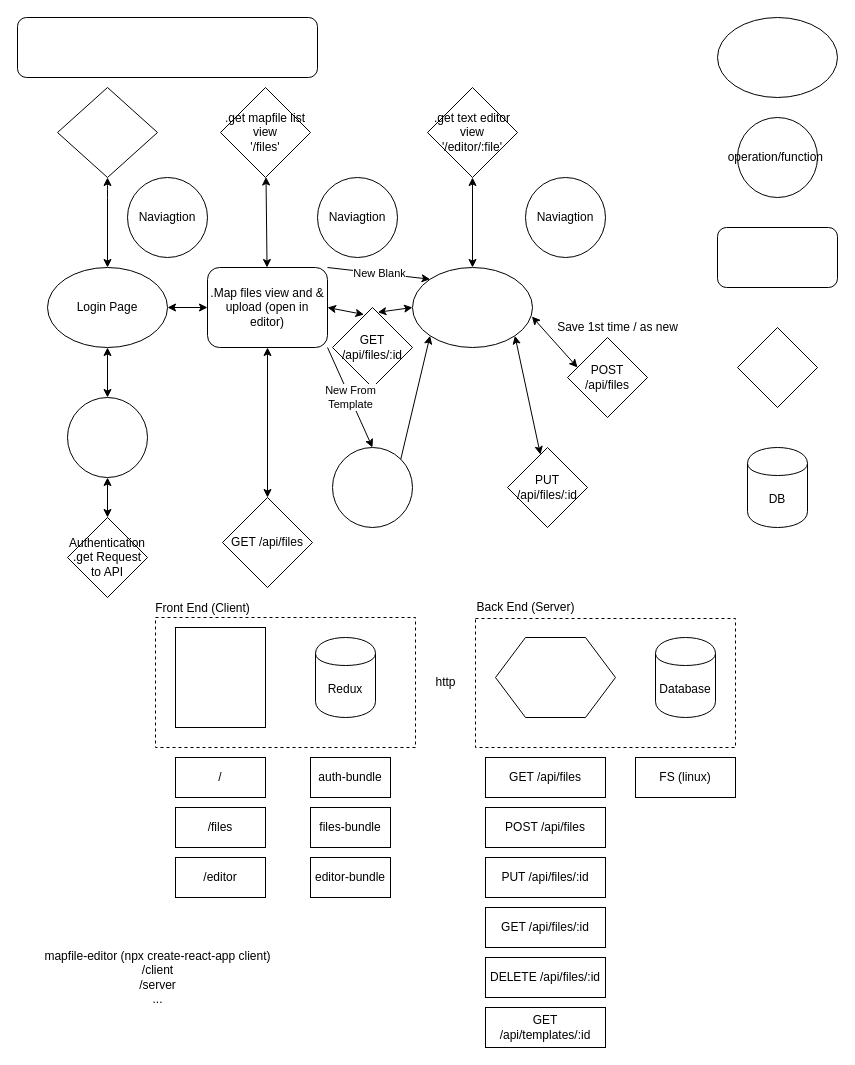
The diagram is 855 pixels wide and 1065 high, and some of its shapes have lost their labels. The centre of each missing label's shape, as x and y in pixels:
".get landing page '/'" belongs at (107,132).
"Front-End of MapServer Editor" belongs at (167,47).
"GET /api/templates/:template" belongs at (372,487).
"Login button triggers API call" belongs at (107,437).
"Modal/Card" belongs at (777,257).
"Monaco text editor" belongs at (472,307).
"React.js" belongs at (220,677).
"routes" belongs at (777,367).
"Web Server Application" belongs at (555,677).
"Webpage" belongs at (777,57).
